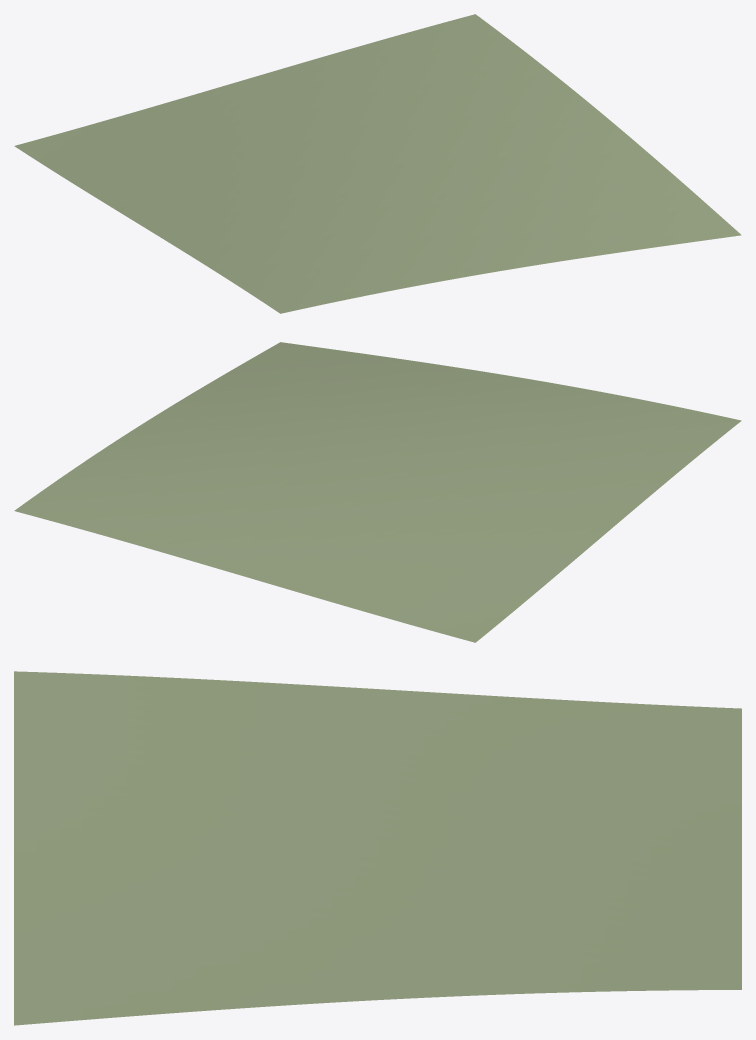
File: alpine-0-13.glb
3 views of the same model, one above another, from view 1: azimuth 30°, elevation 25°; view 2: azimuth 150°, elevation 25°; view 3: azimuth 270°, elevation 25° (orthographic). The views are drawn at different scales.
Visible parts, largest first — view 1: alpine-0-13; view 2: alpine-0-13; view 3: alpine-0-13.
Part boxes in pixels (box(x1,y1,x2,y2)): alpine-0-13: box(14, 14, 741, 313); alpine-0-13: box(14, 342, 741, 642); alpine-0-13: box(14, 671, 741, 1025).
Bounding box in the file's own units: 256 × 18.06 × 256.
